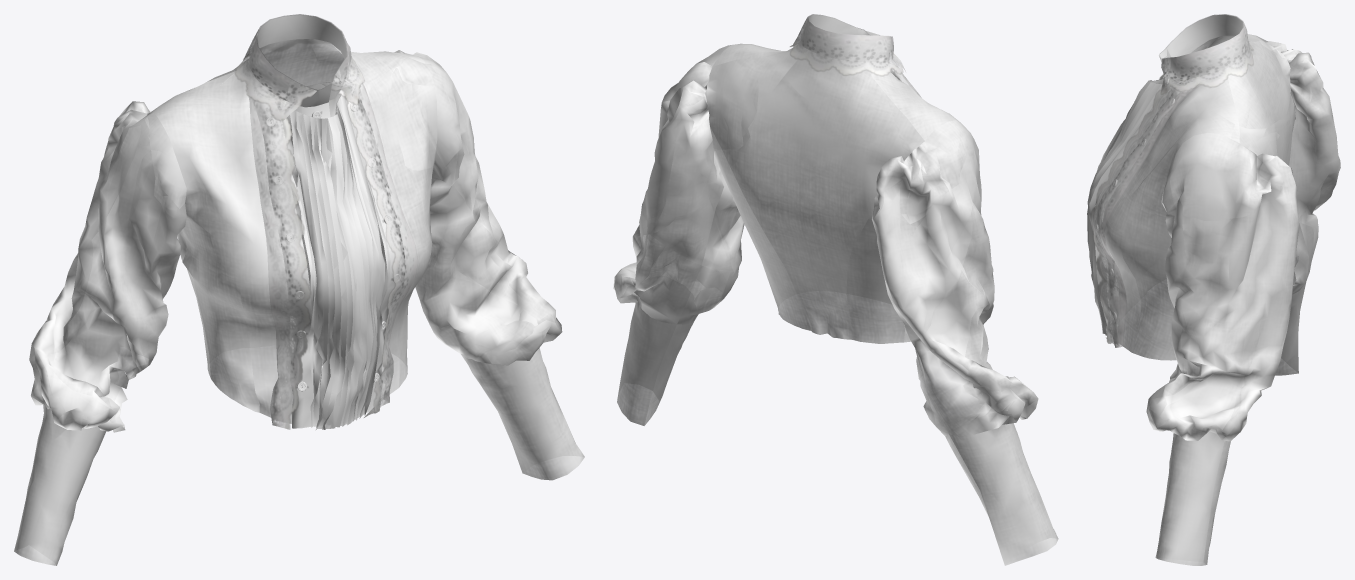
The picture shows the model from 3 angles, left to right: view 1: azimuth 30°, elevation 25°; view 2: azimuth 150°, elevation 25°; view 3: azimuth 270°, elevation 25°; orthographic projection. The views are drawn at different scales.
Visible parts, largest first — view 1: Cloth_mesh; view 2: Cloth_mesh; view 3: Cloth_mesh.
Boxes of the visible parts, x1,y1,x2,y2 form: Cloth_mesh: (14,14,584,565); Cloth_mesh: (613,14,1058,565); Cloth_mesh: (1087,14,1340,565).
Size of the model in its own units: 0.6805 by 0.6311 by 0.3259.
2 materials, 2 textured.
